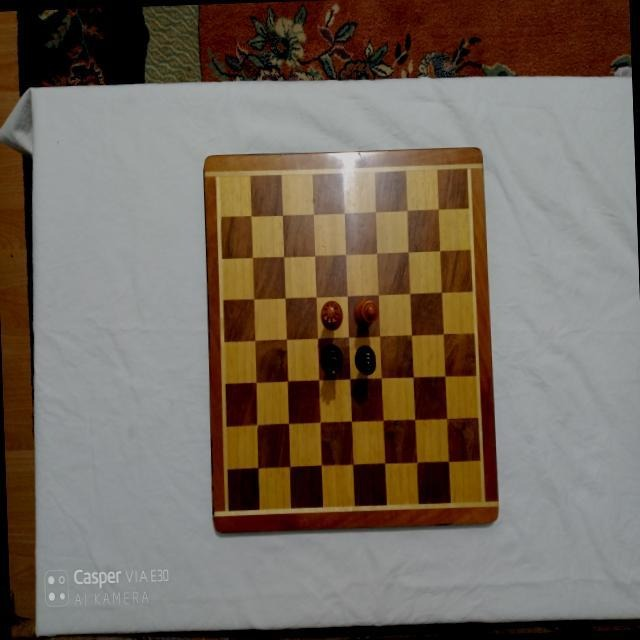black-king: (353, 342, 376, 375)
black-queen: (320, 341, 344, 376)
white-king: (352, 297, 379, 327)
white-queen: (319, 298, 343, 330)
